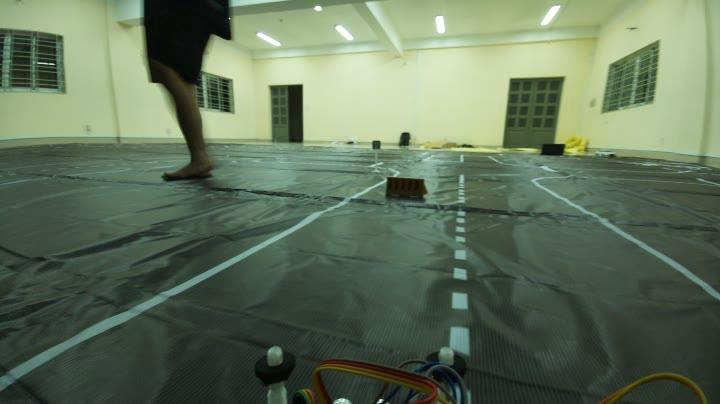roadblock: (381, 171, 438, 204)
